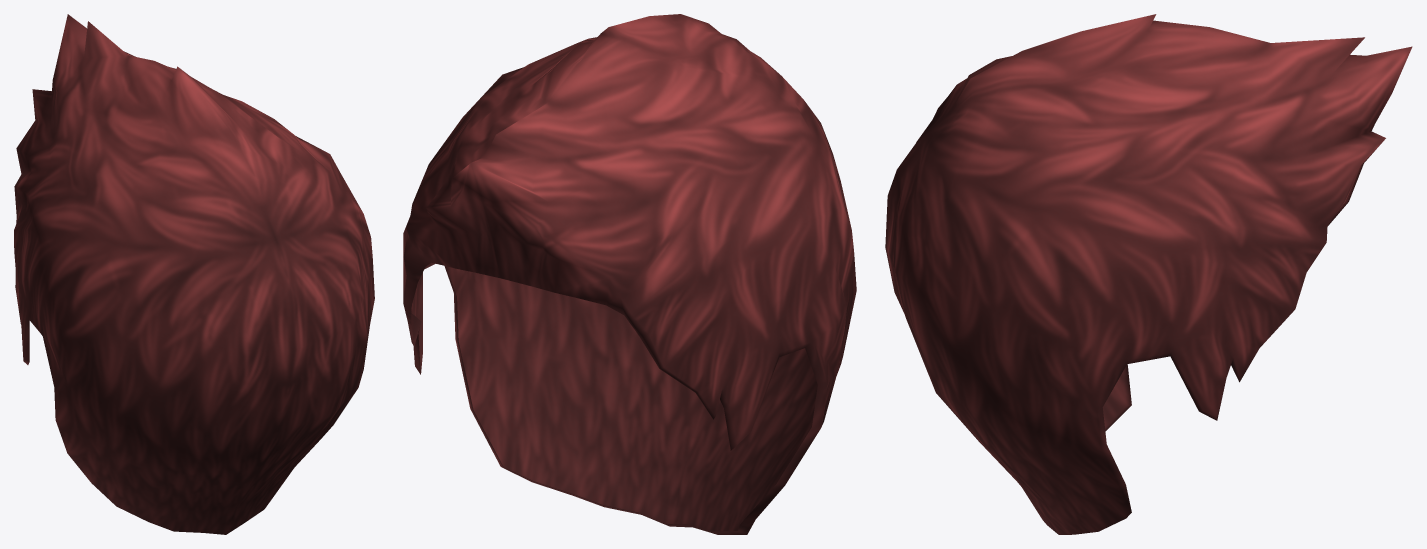
The model's file is Hair_Male_005_textured_red.glb.
The picture shows the model from 3 angles, left to right: view 1: azimuth 30°, elevation 25°; view 2: azimuth 150°, elevation 25°; view 3: azimuth 270°, elevation 25°; orthographic projection. The views are drawn at different scales.
Visible parts, largest first — view 1: Hair_Male_005; view 2: Hair_Male_005; view 3: Hair_Male_005.
Part boxes in pixels (left/top/right/bottom): Hair_Male_005: left=14, top=14, right=374, bottom=534; Hair_Male_005: left=403, top=14, right=856, bottom=534; Hair_Male_005: left=885, top=14, right=1412, bottom=534.
Bounding box in the file's own units: 0.1845 × 0.2501 × 0.2361.
1 material, 1 textured.
